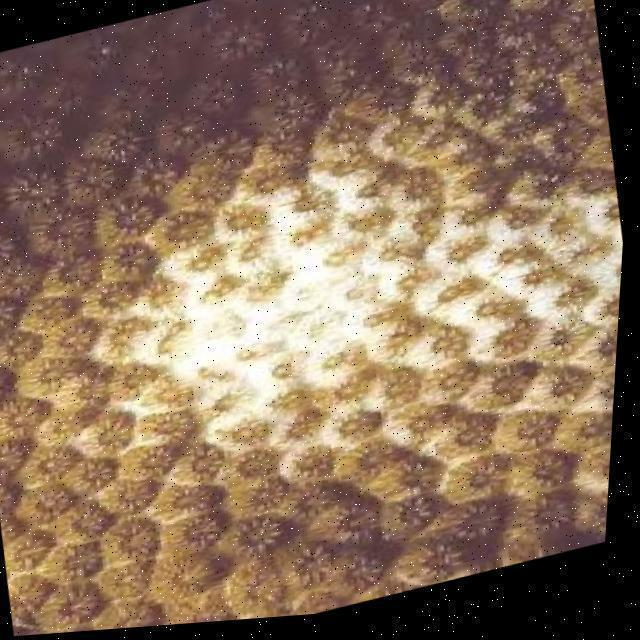Bleached Coral: (83, 144, 636, 463)
